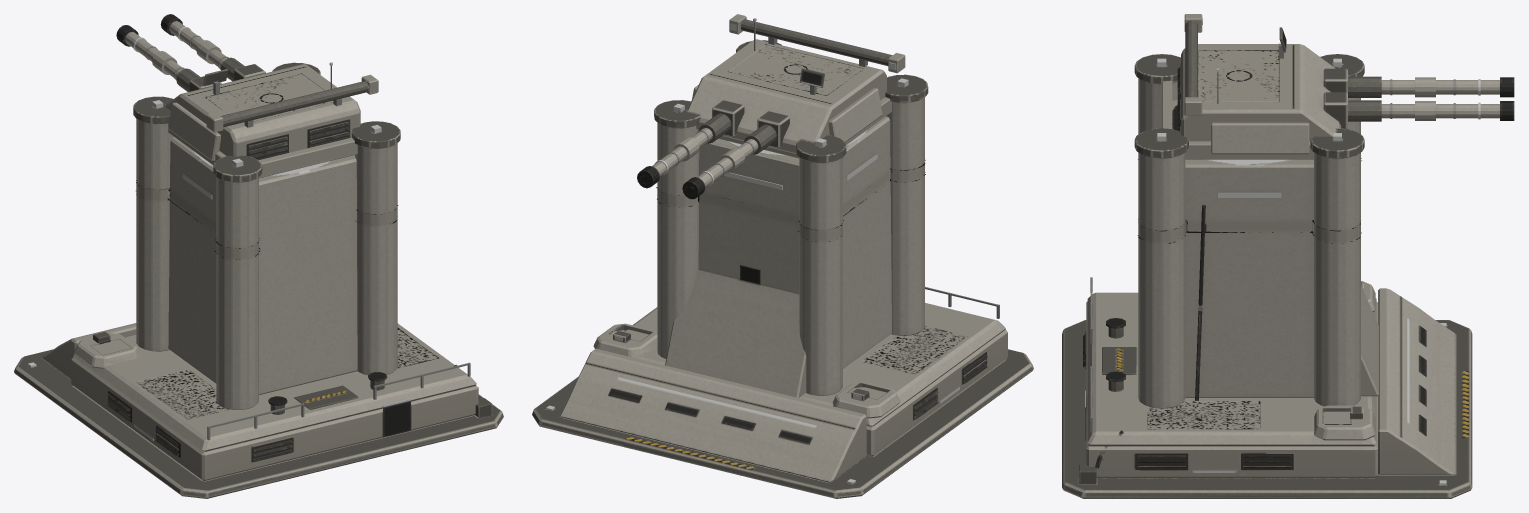
The model's file is ord_rampart.fbx.
The picture shows the model from 3 angles, left to right: view 1: azimuth 30°, elevation 25°; view 2: azimuth 150°, elevation 25°; view 3: azimuth 270°, elevation 25°; orthographic projection. The views are drawn at different scales.
Parts seen in each view (by area): view 1: base_bar, turret_bar, base_glow_running_bar; view 2: base_bar, turret_bar, base_glow_running_bar; view 3: base_bar, turret_bar, base_glow_running_bar.
Boxes of the visible parts, x1,y1,x2,y2 form: base_bar: (14, 62, 503, 498); turret_bar: (116, 14, 378, 161); base_glow_running_bar: (27, 100, 410, 440); base_bar: (532, 40, 1033, 498); turret_bar: (637, 14, 905, 199); base_glow_running_bar: (546, 78, 959, 484); base_bar: (1062, 54, 1472, 498); turret_bar: (1177, 14, 1514, 154); base_glow_running_bar: (1085, 58, 1446, 485).
Size of the model in its own units: 2335 by 2526 by 2576.
Materials: 2 (2 with a texture image).
